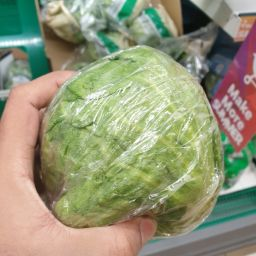Lettuce: (33, 47, 229, 243), (85, 92, 210, 219)
